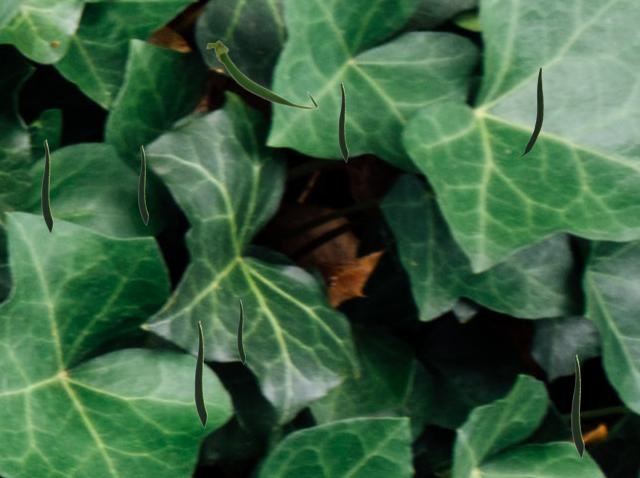french_bean: (205, 39, 318, 109), (520, 67, 542, 155), (194, 320, 206, 427), (571, 354, 583, 457), (41, 139, 52, 232), (138, 145, 147, 224), (338, 82, 347, 161), (237, 299, 244, 363)
